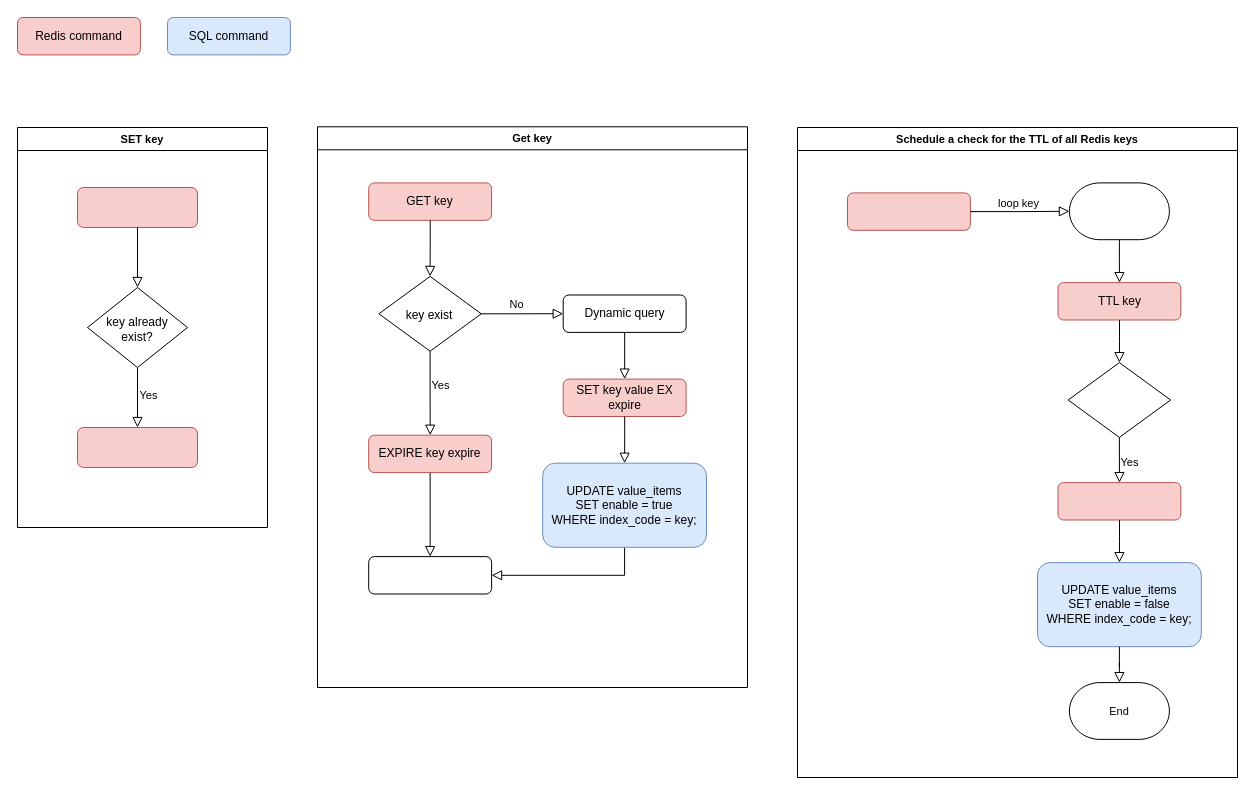
The diagram is 1255 pixels wide and 795 high, and some of its shapes have lost their labels. The shapes that lost their labels are listed below. From the top down, each one's centre as x and y in pixels, then its label:
At (x=137, y=207): "SET key value EX exire XX".
At (x=908, y=211): "KEYS *".
At (x=1118, y=211): "Start".
At (x=1119, y=399): "expired?".
At (x=137, y=447): "SET key value KEEPTTL".
At (x=1119, y=501): "DEL key".
At (x=430, y=575): "return value".
